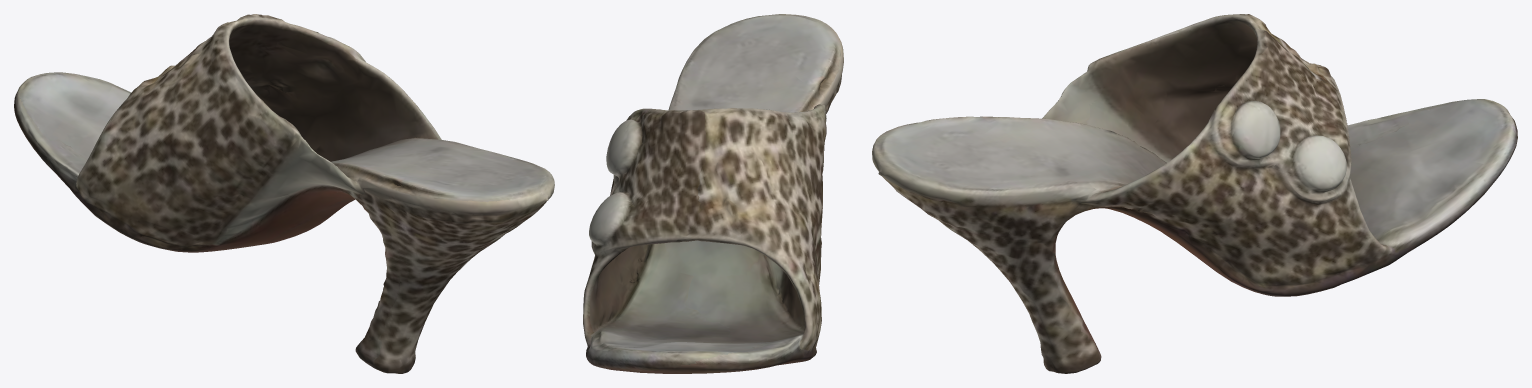
The model's file is shoe.glb.
3 views of the same model, side by side, from view 1: azimuth 30°, elevation 25°; view 2: azimuth 150°, elevation 25°; view 3: azimuth 270°, elevation 25° (orthographic). The views are drawn at different scales.
Visible parts, largest first — view 1: Object_2; view 2: Object_2; view 3: Object_2.
Boxes of the visible parts, x1,y1,x2,y2 form: Object_2: (14, 14, 554, 373); Object_2: (583, 14, 843, 373); Object_2: (872, 14, 1517, 373).
Bounding box in the file's own units: 0.7552 × 0.7444 × 1.4.
Materials: 1 (1 with a texture image).
